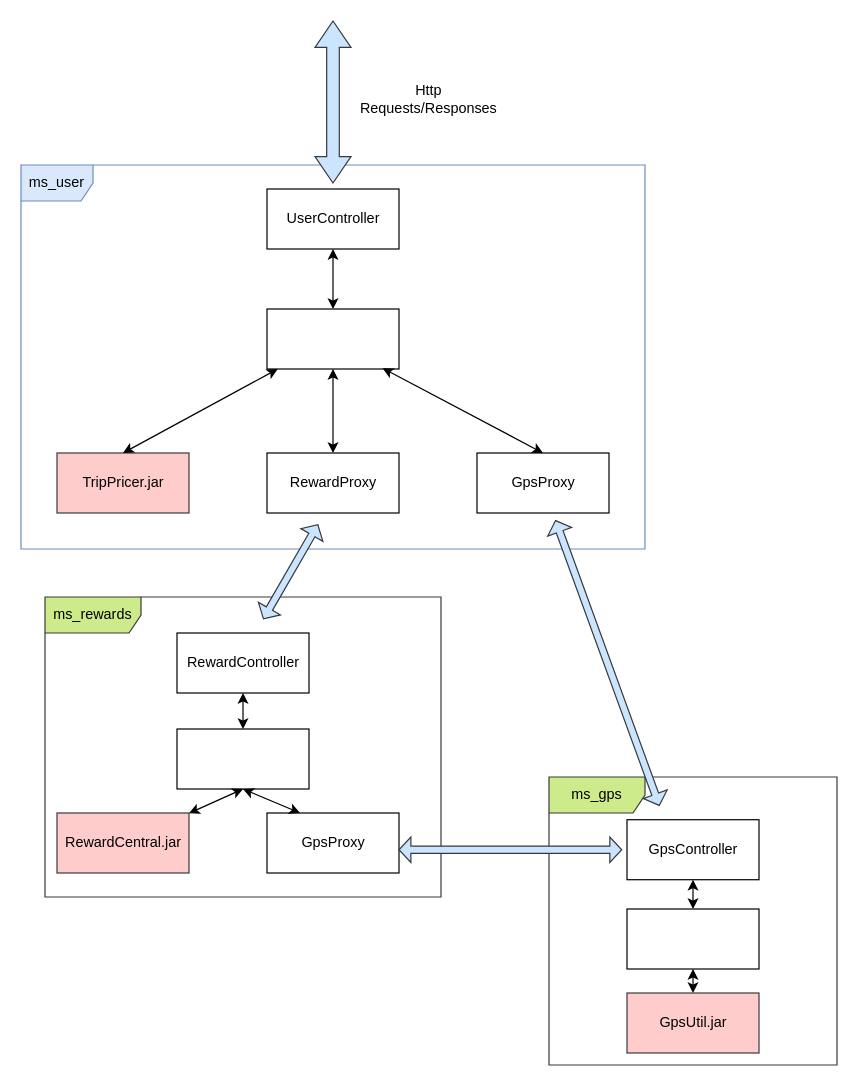
This 858x1086 diagram has some shape labels left out. The centre of each missing label's shape, as x and y in pixels:
GpsService: (x=692, y=938)
RewardService: (x=242, y=758)
UserService: (x=332, y=338)
